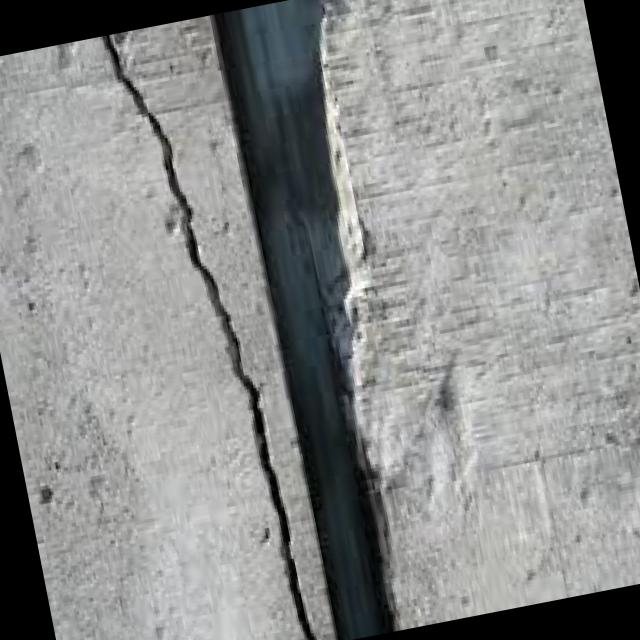crack: (102, 17, 322, 640)
